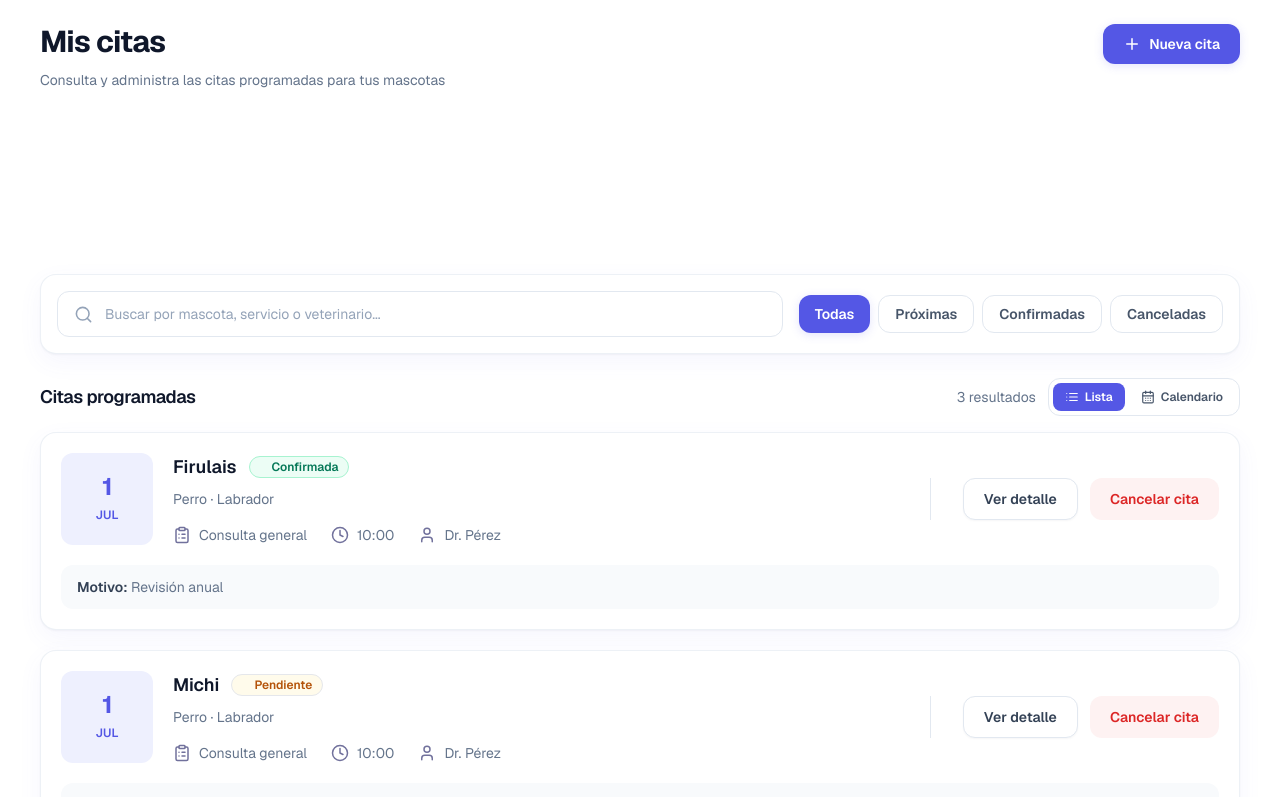
Scenario: AgendarPage — filtros y búsqueda › el filtro 'Confirmadas' muestra solo citas confirmadas
Expected: the heading "Firulais" is shown, [173, 453, 236, 481]
Click the button "Confirmadas".
click(1042, 314)  # box [982, 295, 1102, 333]
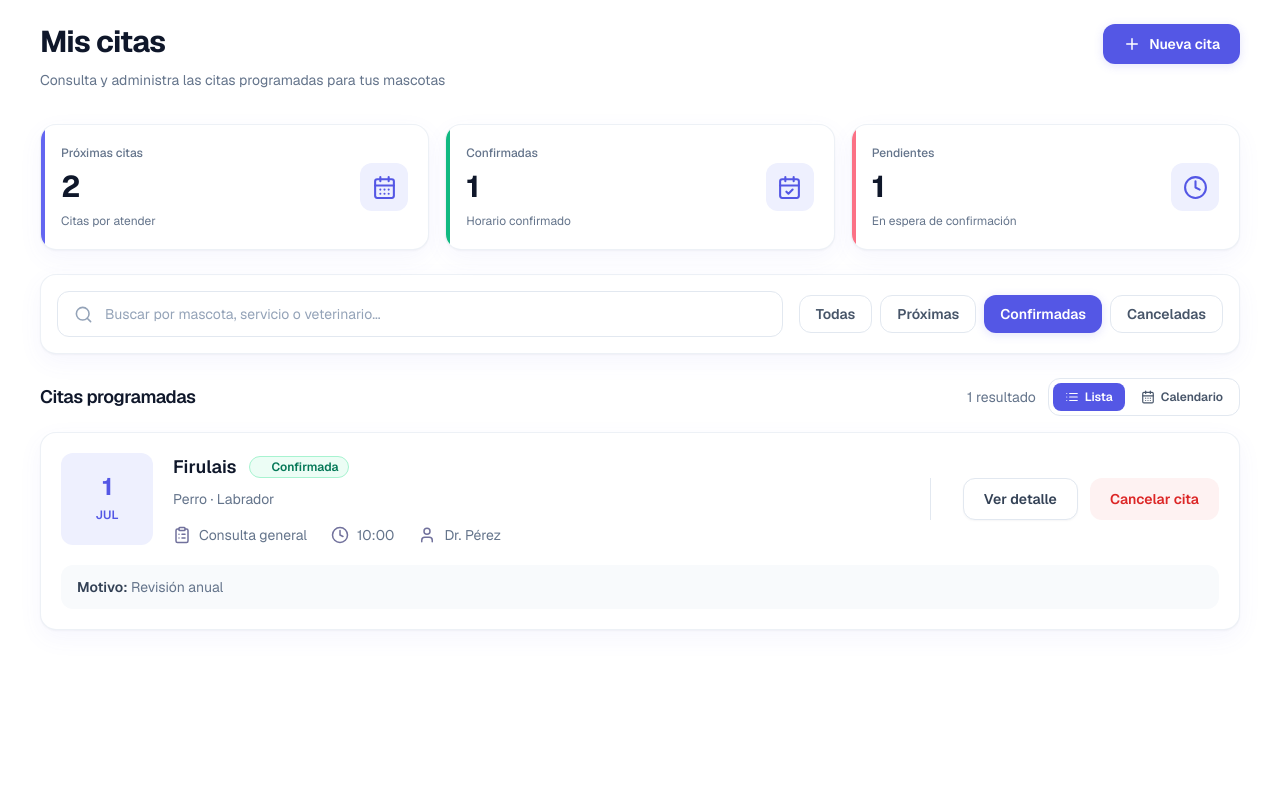
Expected: the heading "Firulais" is shown, [173, 453, 236, 481]
Now the heading "Michi" is gone
